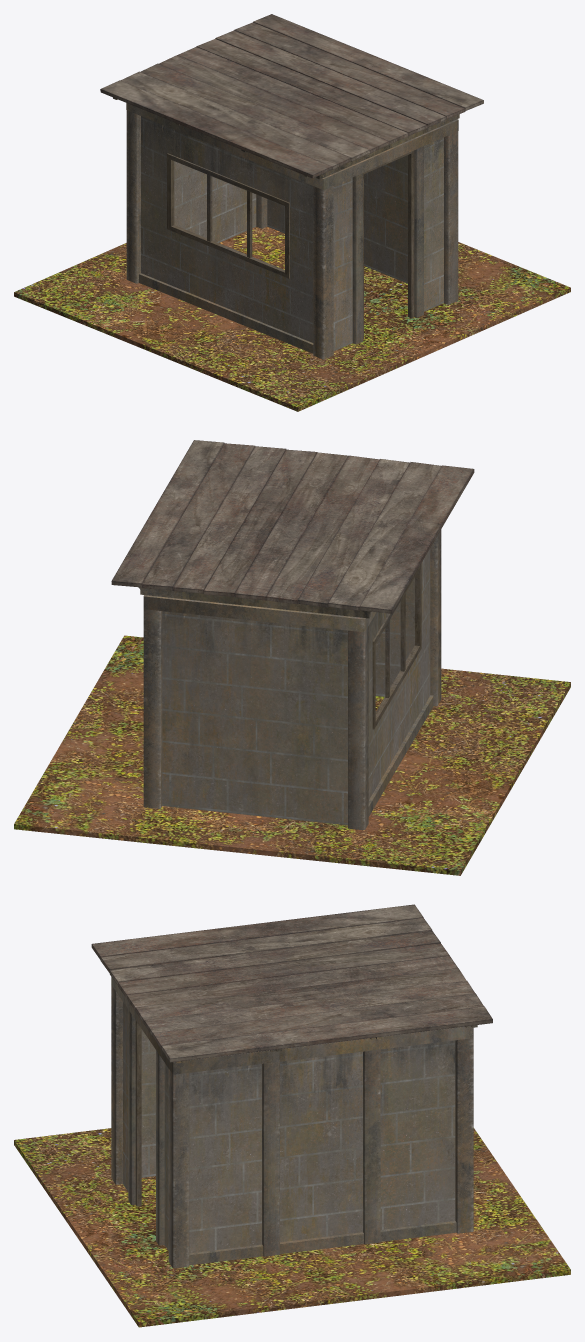
File: hut.gltf
3 views of the same model, one above another, from view 1: azimuth 30°, elevation 25°; view 2: azimuth 150°, elevation 25°; view 3: azimuth 270°, elevation 25° (orthographic). The views are drawn at different scales.
Parts seen in each view (by area): view 1: Cube.002; view 2: Cube.002; view 3: Cube.002.
Boxes of the visible parts, <box> form: Cube.002: <box>14,14,570,411</box>; Cube.002: <box>14,440,570,875</box>; Cube.002: <box>14,904,570,1327</box>.
Size of the model in its own units: 1521 by 691 by 1521.
2 materials, 2 textured.
